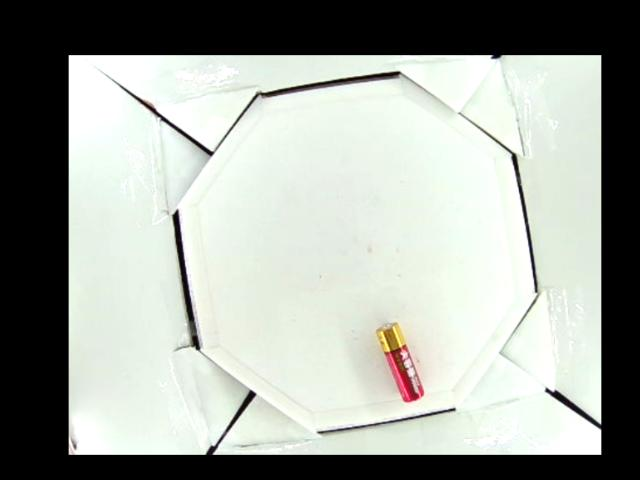Battery: (377, 323, 426, 404)
